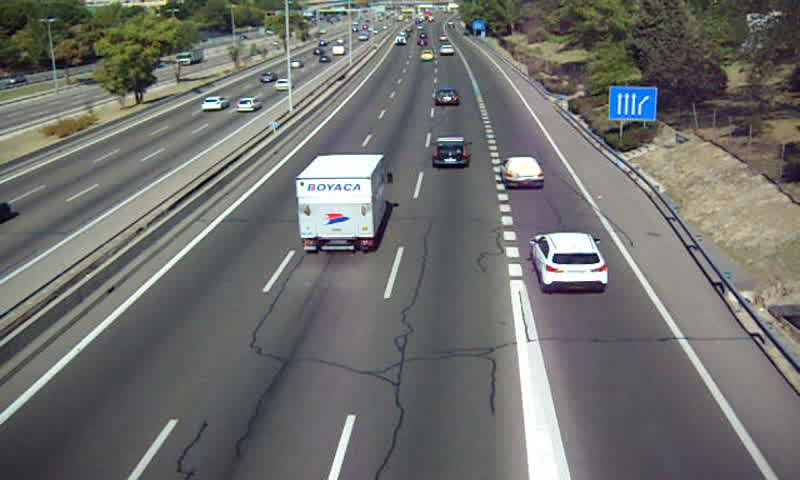car: (528, 232, 609, 294), (502, 156, 544, 187), (430, 135, 472, 166), (433, 88, 459, 108), (439, 44, 455, 56), (418, 49, 434, 60)
small-truck: (293, 154, 389, 254)
